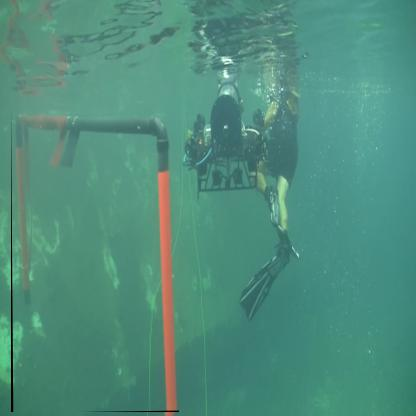gate: (12, 107, 181, 414)
